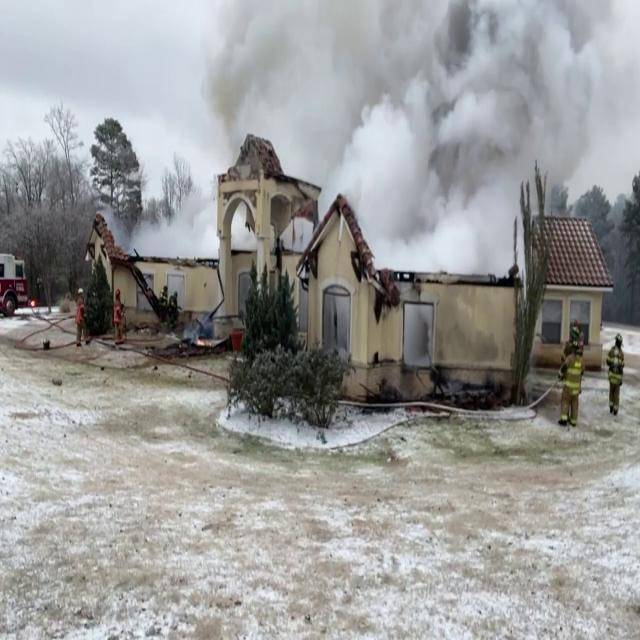Smoke: (206, 0, 632, 258)
